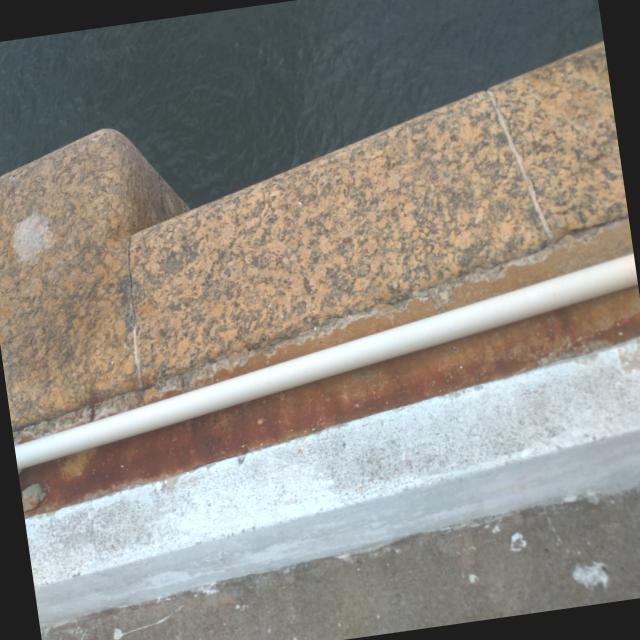gas: (15, 253, 636, 474)
